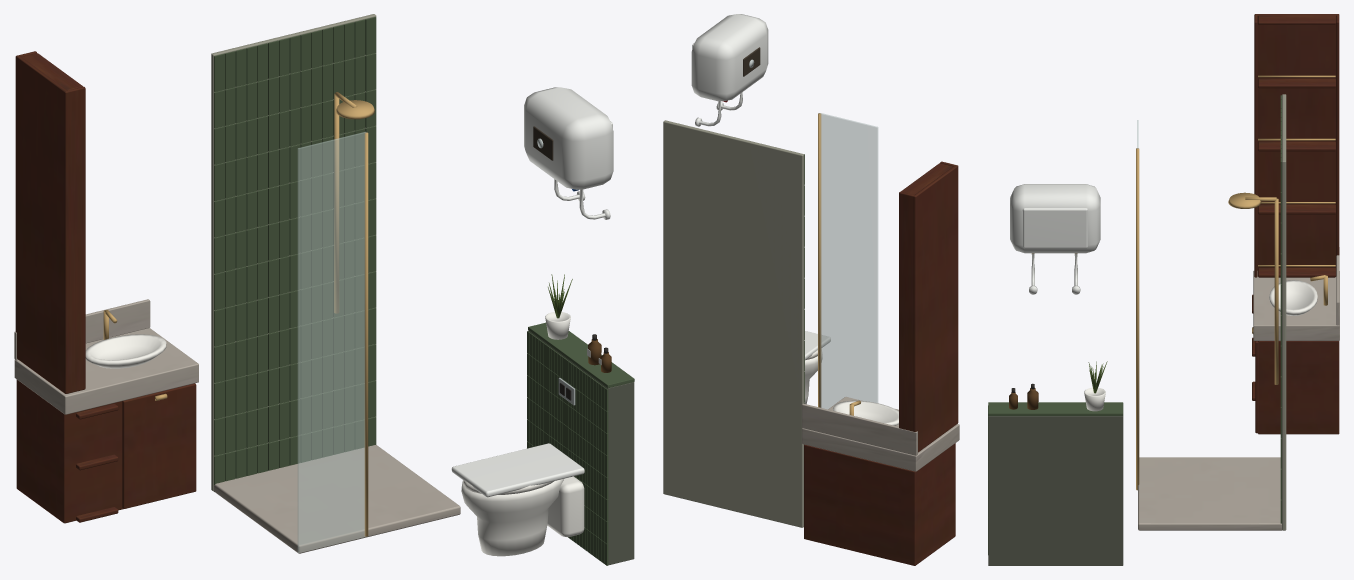
Rendered from bath.glb.
3 renders of one model, left to right at view 1: azimuth 30°, elevation 25°; view 2: azimuth 150°, elevation 25°; view 3: azimuth 270°, elevation 25°, orthographic. The views are drawn at different scales.
Parts seen in each view (by area): view 1: Vertical glazed shower mosaic, 49 cm F14 wall shelf back, Clear front shower screen, Stone shower tray, Dark olive tile cap behind toilet, Closed WC lid, 758 by 500 mm Amarillo vanity top, Pale ceramic planter, 150 mm concealed cistern wall, Rain head, Shower mosaic back, Shaped ceramic vanity basin; view 2: Shower mosaic back, 49 cm F14 wall shelf back, Clear front shower screen, Closed WC lid, 758 by 500 mm Amarillo vanity top, Rain head, Shaped ceramic vanity basin; view 3: 49 cm F14 wall shelf back, 150 mm concealed cistern wall, Stone shower tray, Closed WC lid, 758 by 500 mm Amarillo vanity top, Rain head, Shower mosaic back, Dark olive tile cap behind toilet, Shaped ceramic vanity basin, Basin spout, Vertical glazed shower mosaic.
Part boxes in pixels (box(x1,y1,x2,y2)): Vertical glazed shower mosaic: box(214, 17, 376, 491); 49 cm F14 wall shelf back: box(15, 51, 196, 523); Clear front shower screen: box(297, 131, 366, 552); Stone shower tray: box(214, 445, 460, 553); Dark olive tile cap behind toilet: box(527, 322, 634, 565); Closed WC lid: box(451, 87, 613, 497); 758 by 500 mm Amarillo vanity top: box(14, 299, 198, 414); Pale ceramic planter: box(461, 312, 584, 556); 150 mm concealed cistern wall: box(528, 330, 634, 565); Rain head: box(334, 92, 374, 536); Shower mosaic back: box(211, 14, 376, 491); Shaped ceramic vanity basin: box(85, 334, 166, 368); Shower mosaic back: box(663, 120, 804, 527); 49 cm F14 wall shelf back: box(804, 161, 958, 565); Clear front shower screen: box(819, 113, 878, 409); Closed WC lid: box(691, 14, 830, 359); 758 by 500 mm Amarillo vanity top: box(802, 397, 959, 471); Rain head: box(818, 113, 821, 407); Shaped ceramic vanity basin: box(833, 400, 898, 425); 49 cm F14 wall shelf back: box(1252, 14, 1339, 434); 150 mm concealed cistern wall: box(988, 416, 1123, 565); Stone shower tray: box(1138, 457, 1281, 530); Closed WC lid: box(1010, 184, 1100, 294); 758 by 500 mm Amarillo vanity top: box(1253, 247, 1339, 340); Rain head: box(1136, 148, 1278, 490); Shower mosaic back: box(1282, 94, 1286, 530); Dark olive tile cap behind toilet: box(988, 402, 1123, 554); Shaped ceramic vanity basin: box(1269, 280, 1317, 315); Basin spout: box(1252, 75, 1335, 333); Vertical glazed shower mosaic: box(1280, 95, 1281, 523).
Size of the model in its own units: 2.33 by 2.44 by 2.03.
17 materials, 2 textured.
